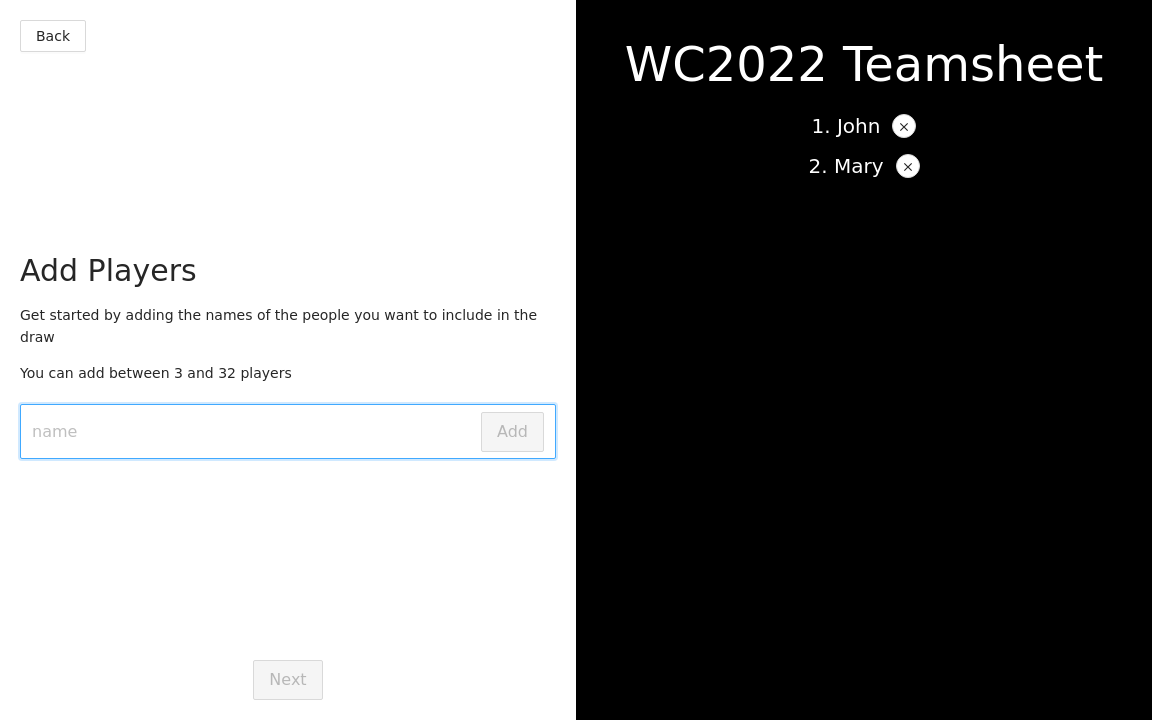
Test: AddPlayerPage › next page btn should enable/disable correctly
This screenshot has width=1152, height=720.
Expected: the button with test id "nextPageBtn" is disabled, [253,660,323,700]
Type "Tom" into the field with test id "playerNameInput" at (254, 432), box [32,412,477,452]
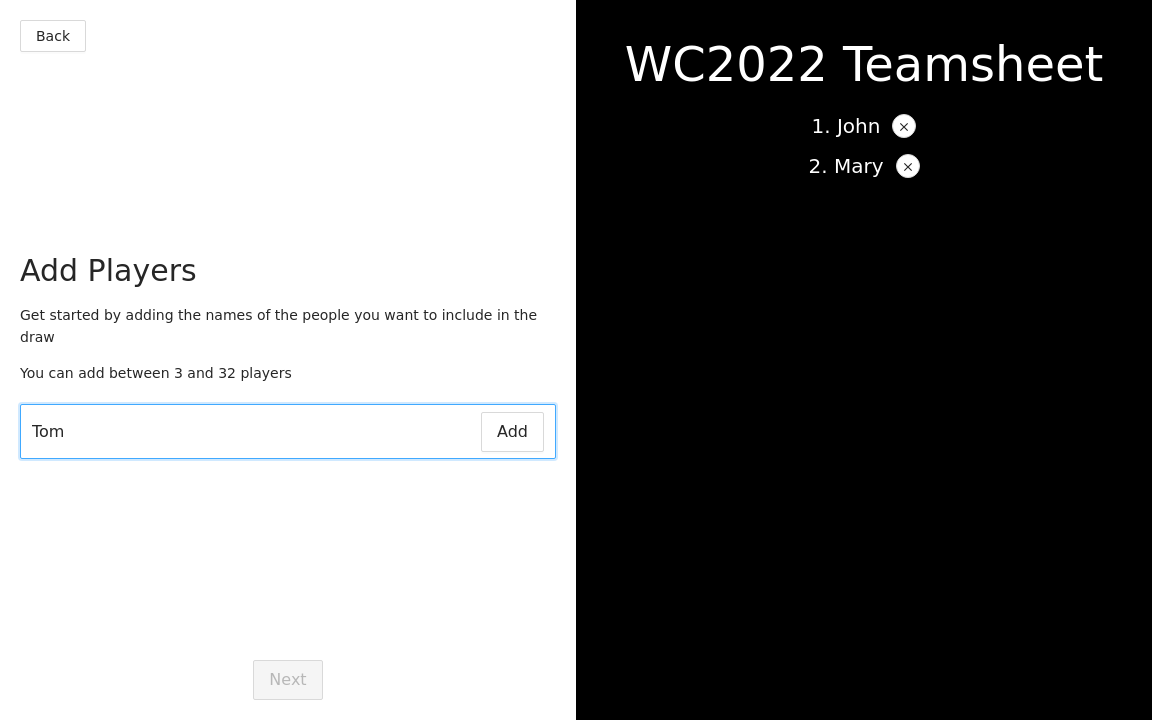
Click the button with test id "addPlayerBtn" at (512, 432), box [481,412,544,452]
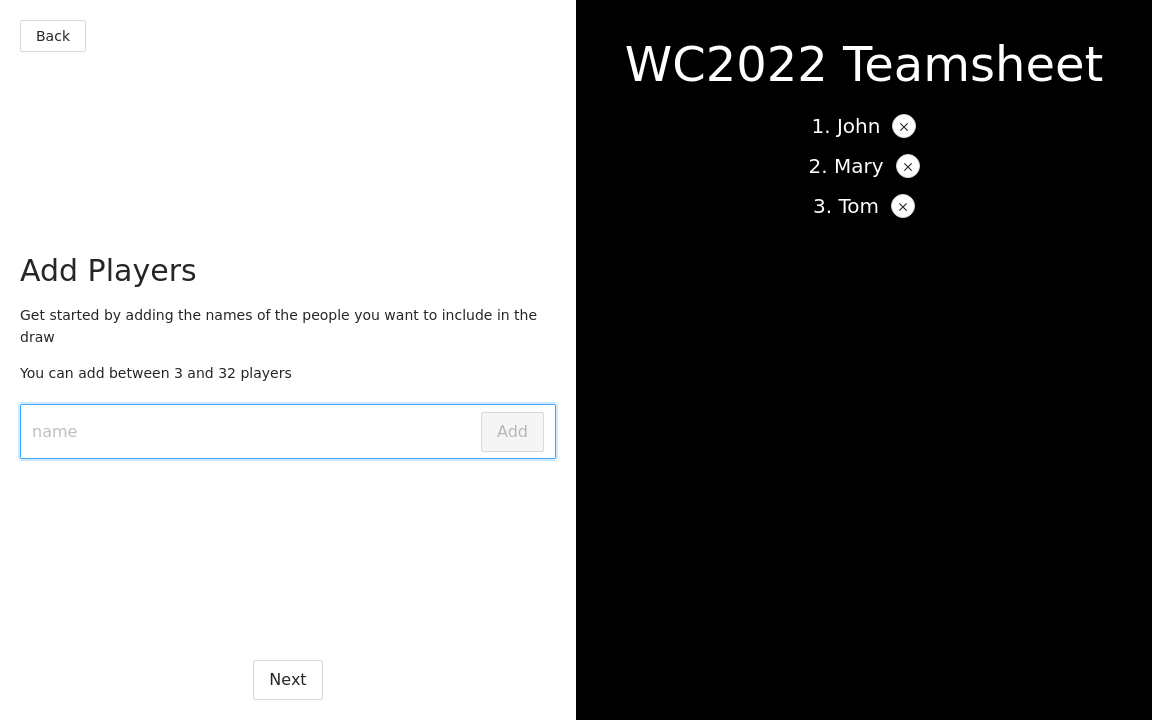
Expected: the button with test id "nextPageBtn" is enabled, [253,660,323,700]
